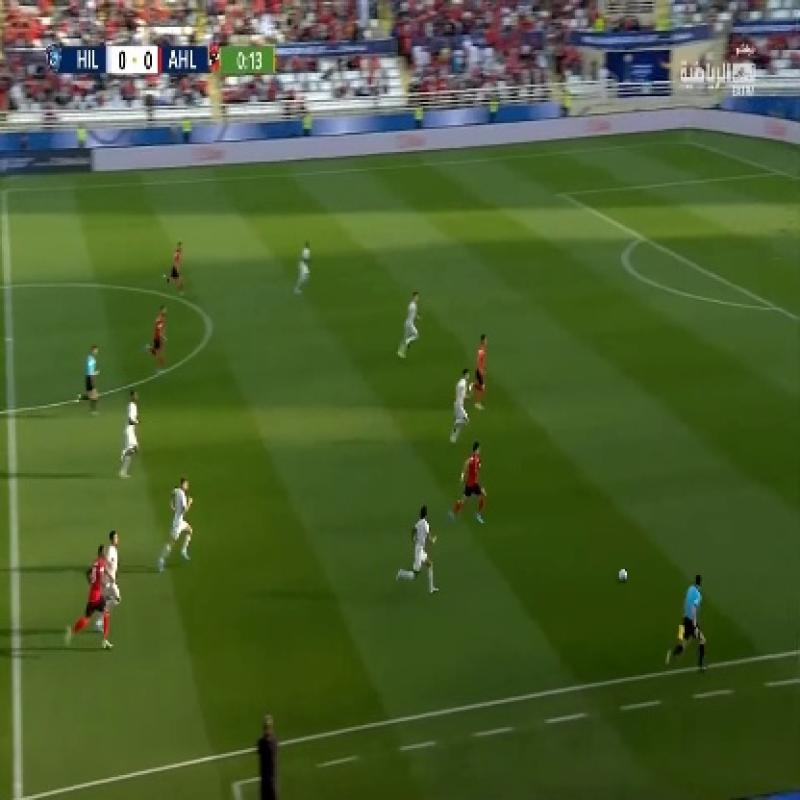1: (673, 131, 698, 150)
10: (625, 221, 656, 254)
11: (764, 294, 782, 319)
13: (0, 180, 17, 198)
14: (0, 269, 17, 298)
15: (0, 386, 23, 430)
16: (4, 773, 34, 800)
2: (764, 158, 792, 182)
9: (550, 181, 573, 206)
c: (192, 309, 226, 345)
